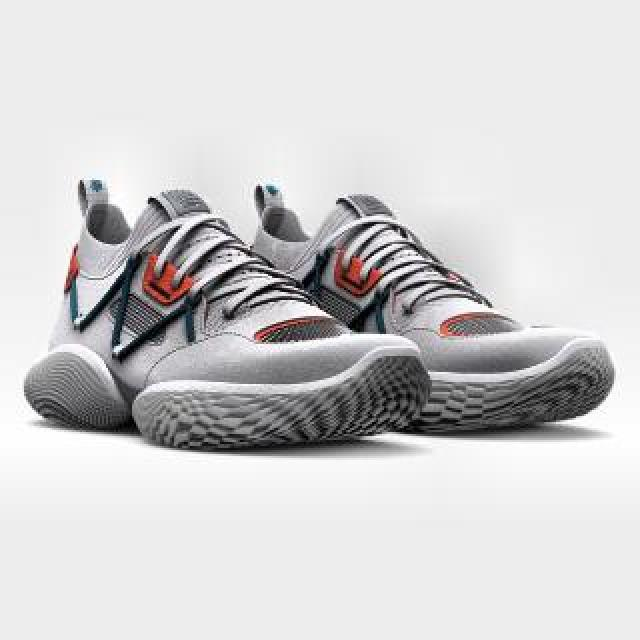shoes: (24, 178, 430, 450), (218, 182, 616, 432)
